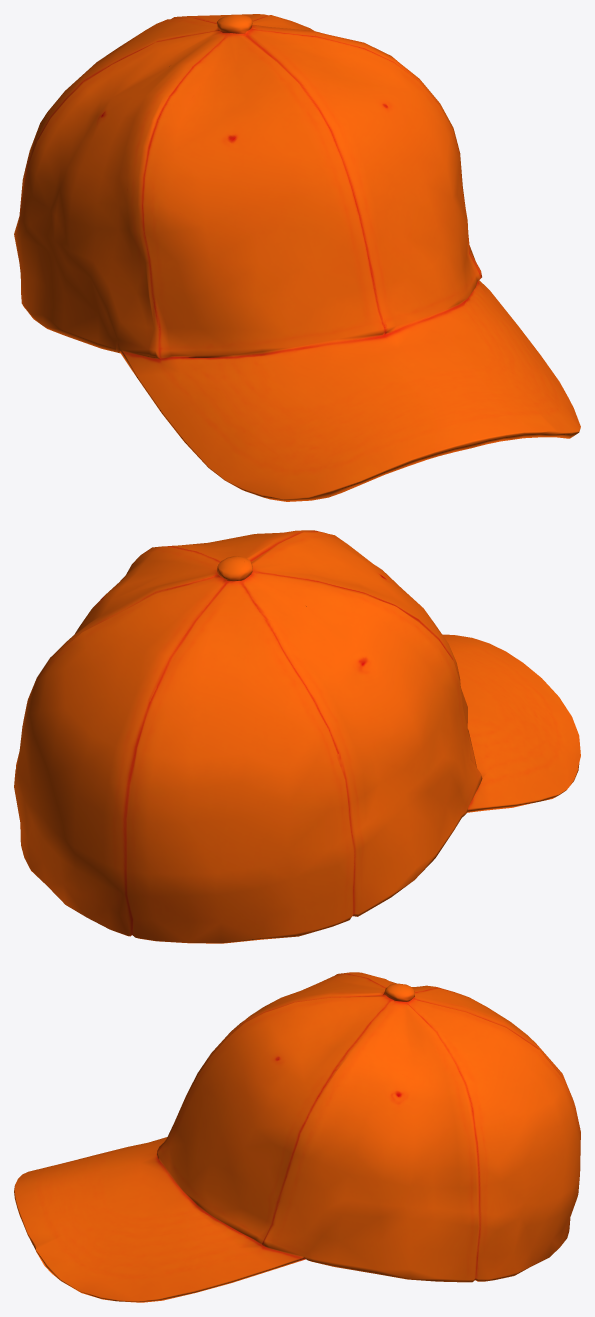
The model's file is hunter-cap-blaze.glb.
The picture shows the model from 3 angles, top to bottom: view 1: azimuth 30°, elevation 25°; view 2: azimuth 150°, elevation 25°; view 3: azimuth 270°, elevation 25°; orthographic projection. The views are drawn at different scales.
Parts seen in each view (by area): view 1: geometry_0; view 2: geometry_0; view 3: geometry_0.
Boxes of the visible parts, left/top/right/bottom form: geometry_0: left=14, top=14, right=580, bottom=501; geometry_0: left=14, top=530, right=580, bottom=943; geometry_0: left=14, top=972, right=580, bottom=1302.
Bounding box in the file's own units: 0.5894 × 0.4683 × 0.9526.
Materials: 1 (1 with a texture image).
